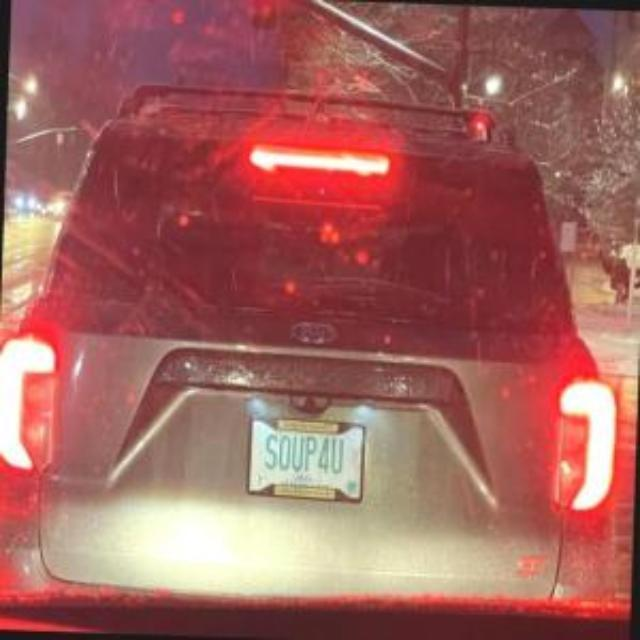License Plate: (246, 414, 365, 505)
